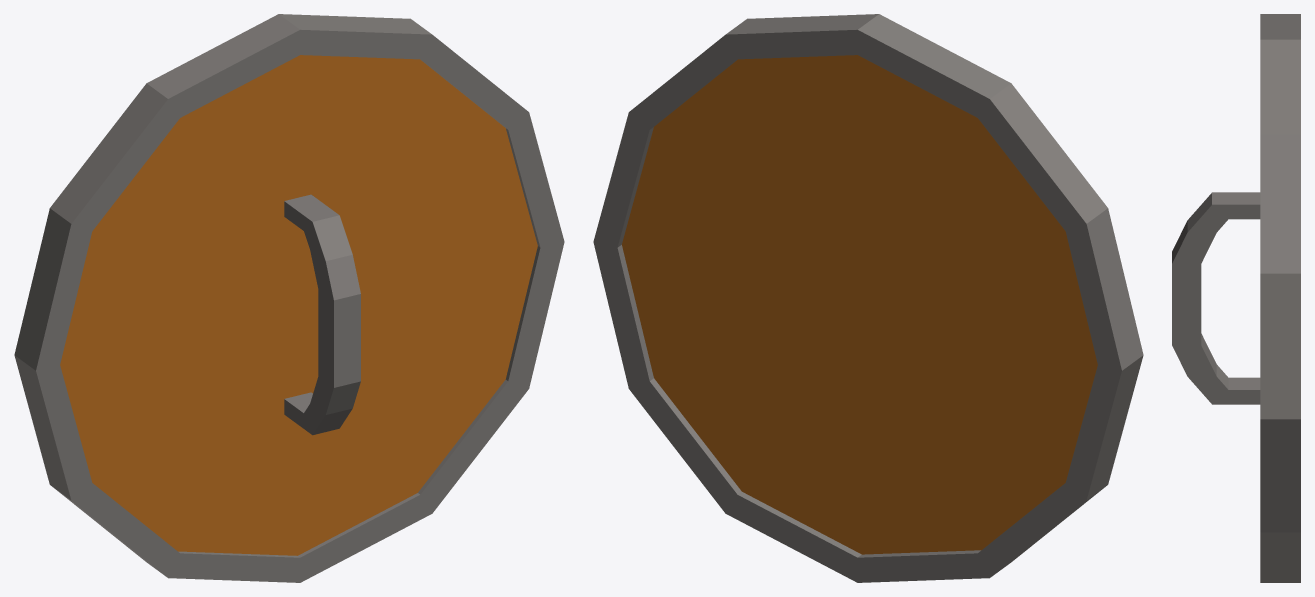
File: Shield.fbx
3 views of the same model, side by side, from view 1: azimuth 30°, elevation 25°; view 2: azimuth 150°, elevation 25°; view 3: azimuth 270°, elevation 25° (orthographic). The views are drawn at different scales.
Visible parts, largest first — view 1: Shield; view 2: Shield; view 3: Shield.
Part boxes in pixels (x1,y1,x2,y2): Shield: (14, 14, 564, 582); Shield: (593, 14, 1143, 582); Shield: (1172, 14, 1300, 582).
Bounding box in the file's own units: 36.43 × 36.43 × 8.21.
